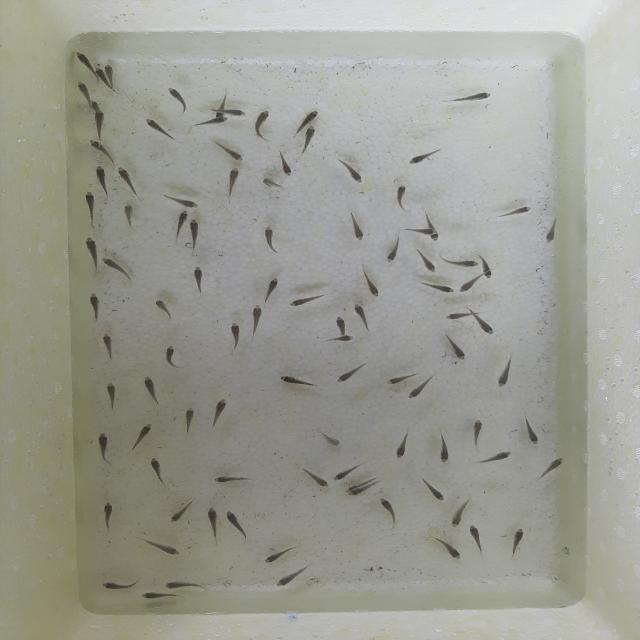fingerling: (438, 329, 472, 365), (531, 456, 565, 485), (359, 266, 386, 302), (430, 536, 464, 563), (129, 419, 157, 451), (84, 139, 120, 163), (331, 459, 365, 484), (140, 374, 168, 404), (417, 476, 448, 503), (144, 116, 174, 142), (101, 256, 133, 280), (141, 538, 183, 556), (469, 311, 498, 337), (167, 190, 204, 210), (296, 468, 329, 490), (152, 298, 182, 322), (520, 416, 544, 446), (146, 456, 170, 486), (497, 354, 518, 388), (447, 496, 468, 530), (259, 273, 286, 299), (211, 396, 232, 429), (342, 156, 365, 186), (210, 144, 248, 162), (277, 373, 311, 393), (412, 247, 438, 273), (114, 165, 139, 192), (282, 295, 327, 310), (377, 498, 398, 530), (477, 448, 512, 467), (191, 266, 213, 296), (91, 432, 112, 463), (249, 301, 268, 335), (505, 524, 525, 556), (82, 188, 100, 223), (187, 216, 204, 253), (222, 166, 241, 199), (226, 510, 249, 537), (345, 211, 366, 240), (99, 579, 145, 592), (168, 86, 189, 114), (139, 591, 188, 603), (394, 431, 414, 460), (354, 302, 376, 328), (272, 569, 298, 591), (445, 92, 492, 104), (159, 579, 210, 590), (442, 254, 477, 270), (104, 499, 120, 534), (540, 218, 562, 243), (86, 294, 108, 319), (499, 203, 531, 220), (160, 346, 184, 368), (259, 549, 292, 565), (338, 363, 364, 383), (97, 332, 117, 358), (259, 226, 278, 253), (92, 165, 112, 190), (256, 176, 287, 192), (208, 473, 253, 484), (467, 418, 484, 447), (407, 382, 432, 401), (102, 380, 120, 406), (384, 237, 400, 266), (407, 151, 440, 165), (383, 372, 416, 386), (255, 110, 272, 137), (468, 525, 483, 555), (92, 108, 106, 140), (277, 152, 293, 180), (207, 507, 220, 541), (172, 503, 193, 524), (171, 209, 190, 232), (75, 80, 93, 104), (420, 282, 456, 294), (120, 203, 138, 227), (181, 404, 195, 433), (230, 318, 242, 351), (84, 237, 98, 265), (458, 278, 480, 295), (394, 183, 407, 211), (437, 434, 449, 464), (215, 107, 247, 118), (302, 126, 315, 152), (332, 314, 350, 332), (320, 432, 340, 448), (438, 310, 469, 320), (78, 52, 92, 74), (322, 336, 360, 344), (198, 116, 228, 126), (408, 226, 437, 236), (300, 111, 318, 127), (479, 256, 491, 279), (350, 486, 377, 496), (95, 68, 109, 86), (105, 62, 116, 83)
